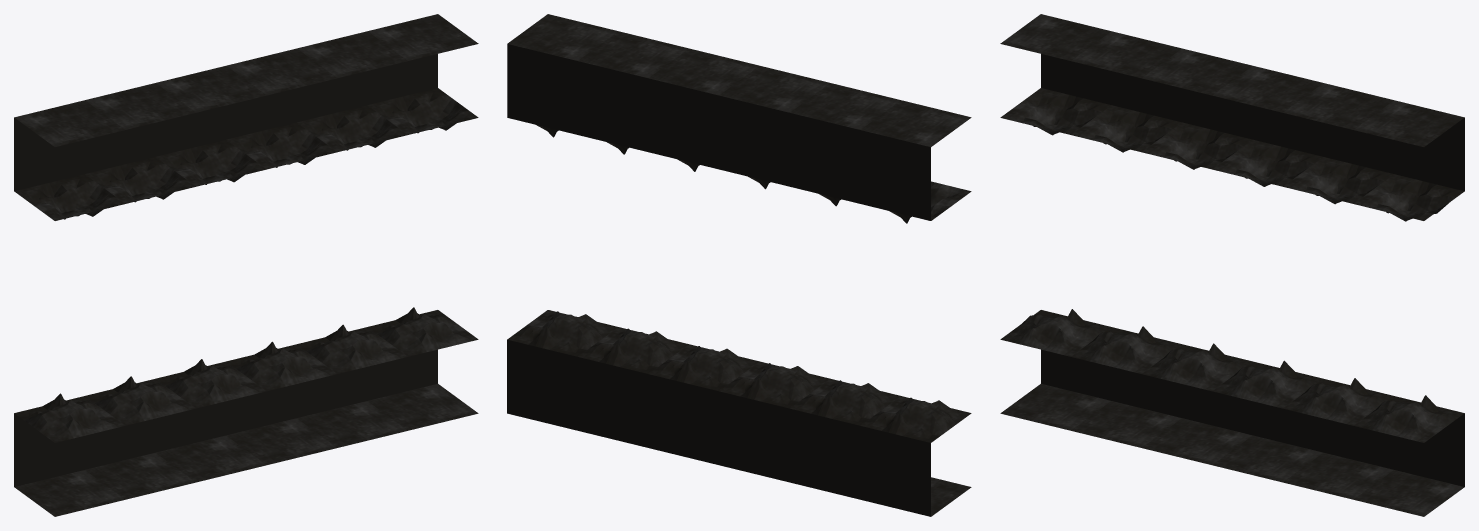
File: Cubi_Corridor1to2.fbx
3 renders of one model, left to right at view 1: azimuth 30°, elevation 25°; view 2: azimuth 150°, elevation 25°; view 3: azimuth 330°, elevation 25°, orthographic.
Visible parts, largest first — view 1: Cubes_Corridor1to2; view 2: Cubes_Corridor1to2; view 3: Cubes_Corridor1to2.
Part boxes in pixels (x1,y1,x2,y2): Cubes_Corridor1to2: [14, 14, 478, 516]; Cubes_Corridor1to2: [507, 14, 971, 516]; Cubes_Corridor1to2: [1000, 14, 1464, 516].
Size of the model in its own units: 600 by 500 by 100.
